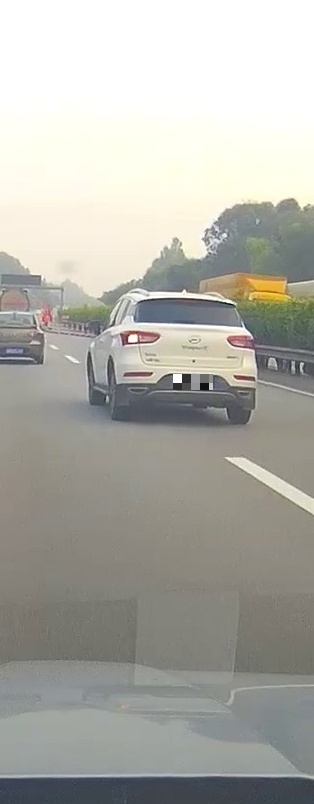L_light: (120, 330, 162, 346)
R_light: (227, 335, 256, 350)
T_light: (179, 298, 198, 303)
day-left: (117, 291, 258, 424)
plate_1: (173, 374, 213, 390)
